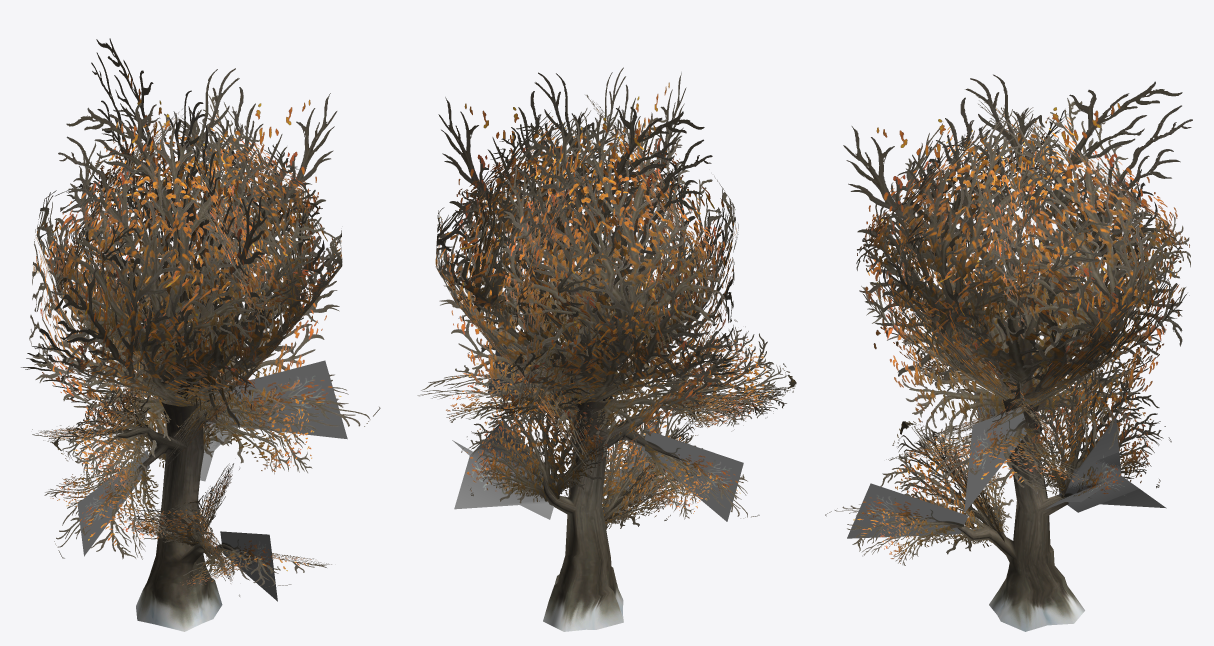
Rendered from dragonblight_tree07.obj.
The picture shows the model from 3 angles, left to right: view 1: azimuth 30°, elevation 25°; view 2: azimuth 150°, elevation 25°; view 3: azimuth 270°, elevation 25°; orthographic projection.
Visible parts, largest first — view 1: Geoset1, Geoset0, Geoset3, Geoset2; view 2: Geoset1, Geoset3, Geoset0, Geoset2; view 3: Geoset1, Geoset3, Geoset2, Geoset0.
Boxes of the visible parts, x1,y1,x2,y2 form: Geoset1: (21, 38, 380, 590); Geoset0: (108, 389, 248, 631); Geoset3: (32, 322, 242, 596); Geoset2: (77, 360, 347, 601); Geoset1: (417, 67, 759, 519); Geoset3: (461, 319, 796, 528); Geoset0: (542, 387, 729, 631); Geoset2: (452, 327, 743, 521); Geoset1: (825, 74, 1192, 565); Geoset3: (880, 307, 1171, 554); Geoset2: (847, 392, 1166, 538); Geoset0: (954, 356, 1084, 631).
Size of the model in its own units: 51.62 by 78.81 by 50.
Materials: 3 (3 with a texture image).
